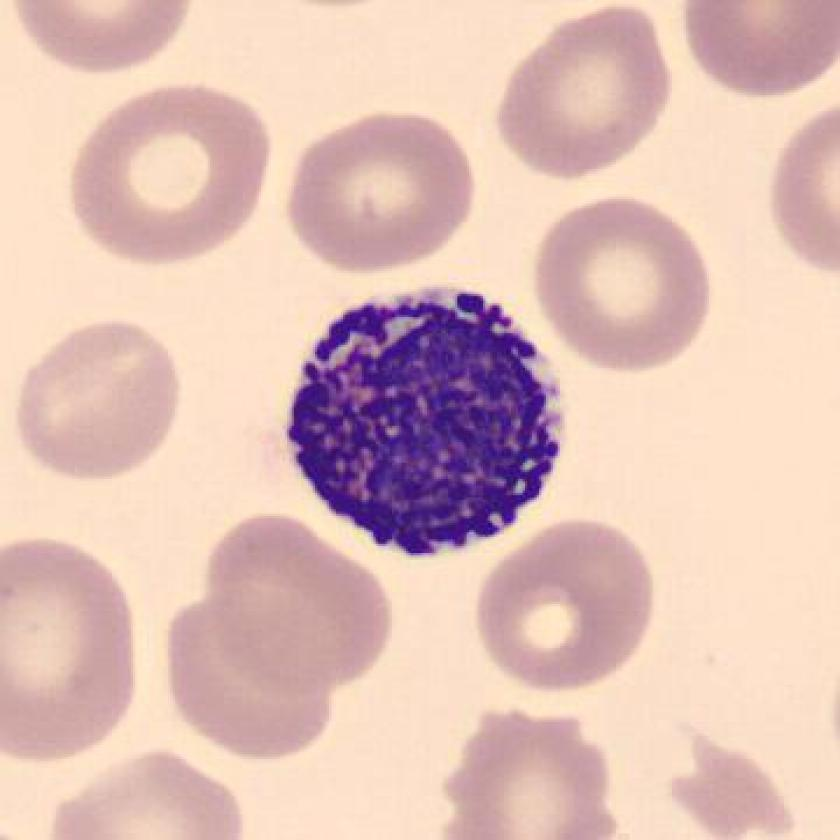basophil: (269, 267, 568, 566)
